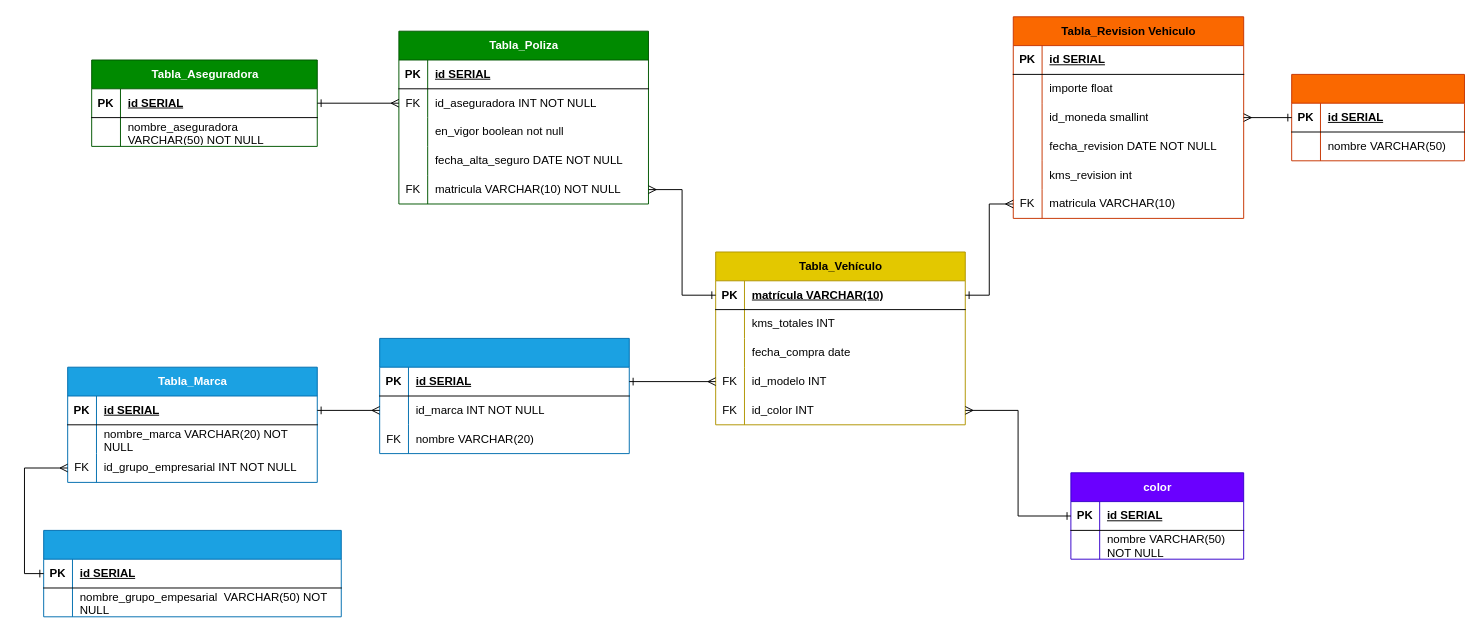
The diagram is 1481 pixels wide and 634 high, and some of its shapes have lost their labels. The box of each missing label's shape, as (x1, y1, x2, y2) in pixels:
Grupo_Empresarial: (43, 529, 341, 617)
moneda: (1291, 73, 1464, 161)
Tabla_Modelo: (379, 337, 629, 454)
